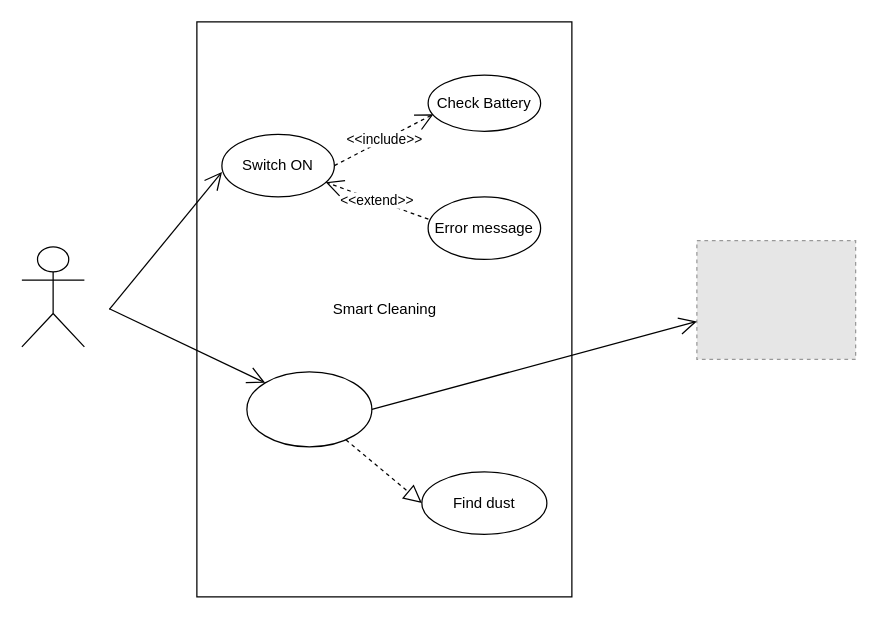
The diagram is 878 pixels wide and 619 high, and some of its shapes have lost their labels. Grey dashed boxes stand in for pictures. Here are the shapes that lost their labels. From the top down, the box of each, then its label:
(21, 246, 84, 347): User
(246, 371, 372, 447): Cleaning
